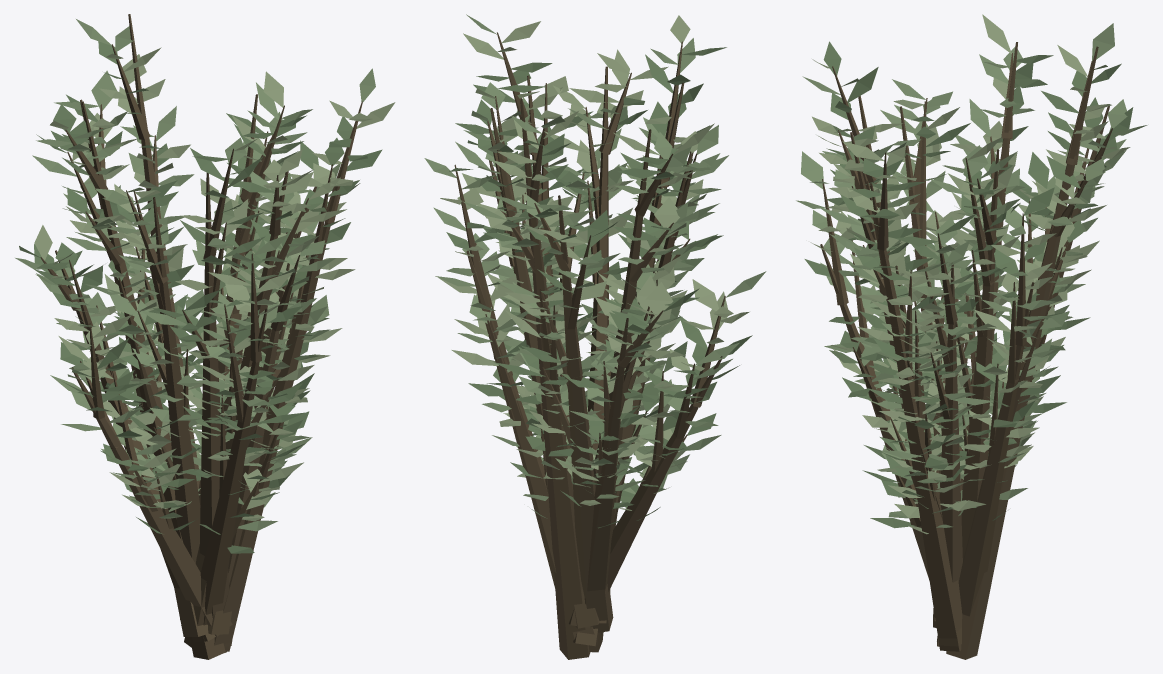
Rendered from bush_17.glb.
The picture shows the model from 3 angles, left to right: view 1: azimuth 30°, elevation 25°; view 2: azimuth 150°, elevation 25°; view 3: azimuth 270°, elevation 25°; orthographic projection. The views are drawn at different scales.
Parts seen in each view (by area): view 1: bush_17; view 2: bush_17; view 3: bush_17.
Boxes of the visible parts, x1,y1,x2,y2 form: bush_17: (15, 14, 395, 659); bush_17: (424, 14, 766, 659); bush_17: (796, 14, 1147, 659).
Bounding box in the file's own units: 1.18 × 2.21 × 1.17.
